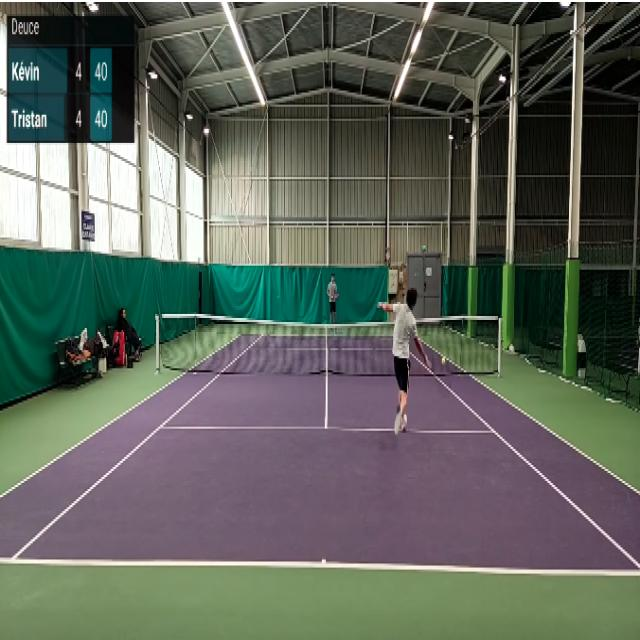ball: (442, 357, 446, 365)
